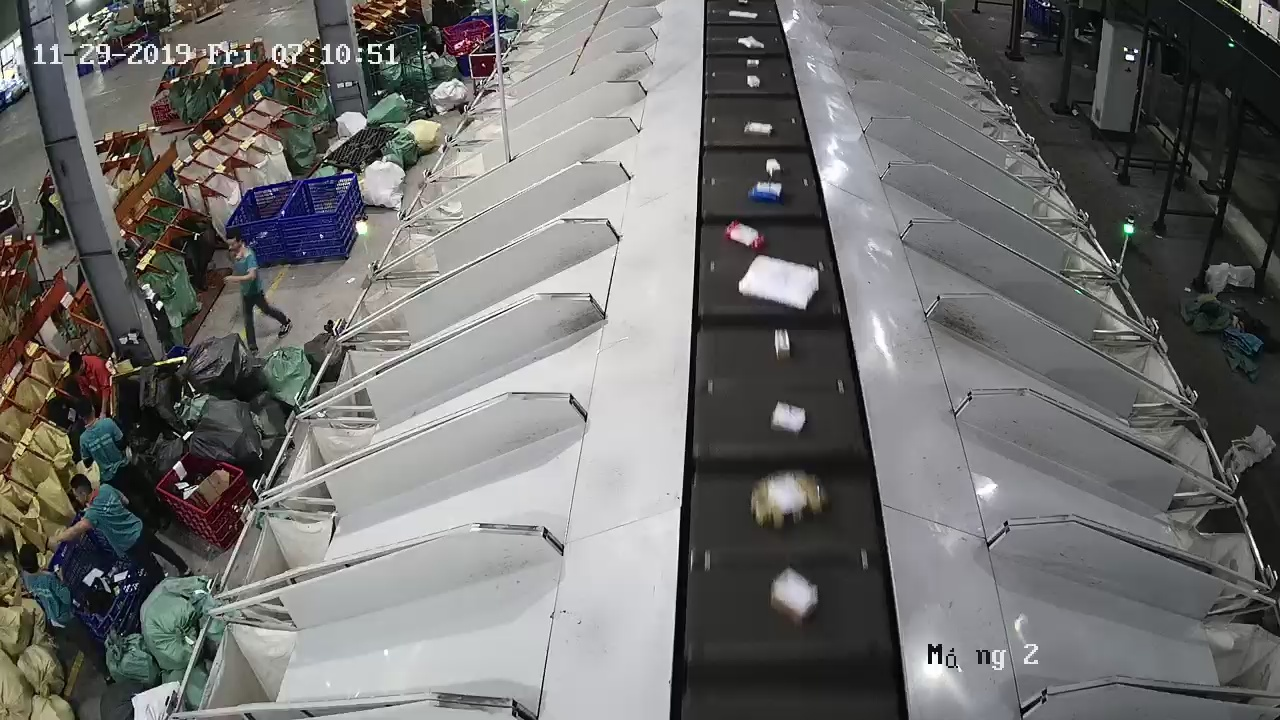parcel: (750, 469, 830, 532), (737, 255, 820, 311), (769, 566, 820, 630), (724, 219, 767, 252), (769, 400, 806, 434), (747, 181, 785, 205), (774, 328, 792, 361), (743, 121, 773, 137), (765, 158, 782, 178)
